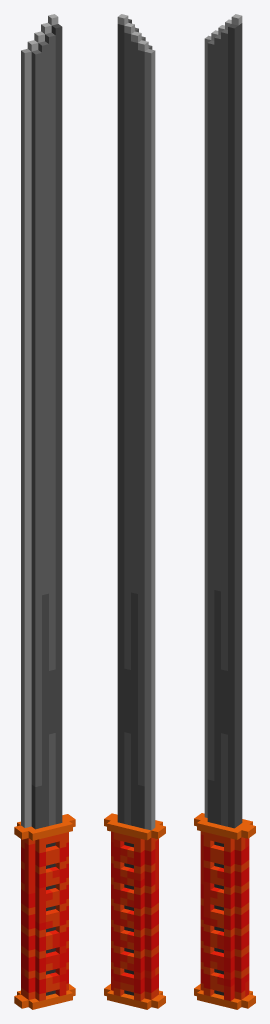
The model's file is katana.obj.
3 renders of one model, left to right at view 1: azimuth 30°, elevation 25°; view 2: azimuth 150°, elevation 25°; view 3: azimuth 330°, elevation 25°, orthographic.
Bounding box in the file's own units: 0.8 × 13.9 × 0.4.
Materials: 1 (1 with a texture image).
